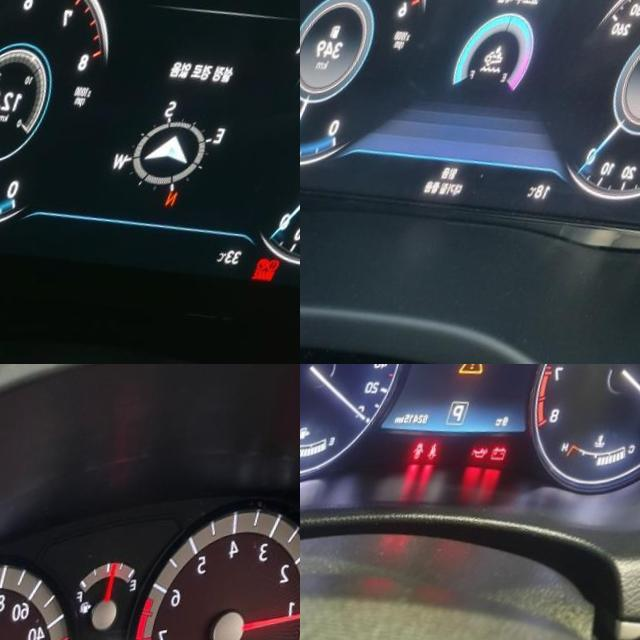Central Warning lamp: (472, 364, 507, 381)
Doors: (432, 445, 446, 463)
